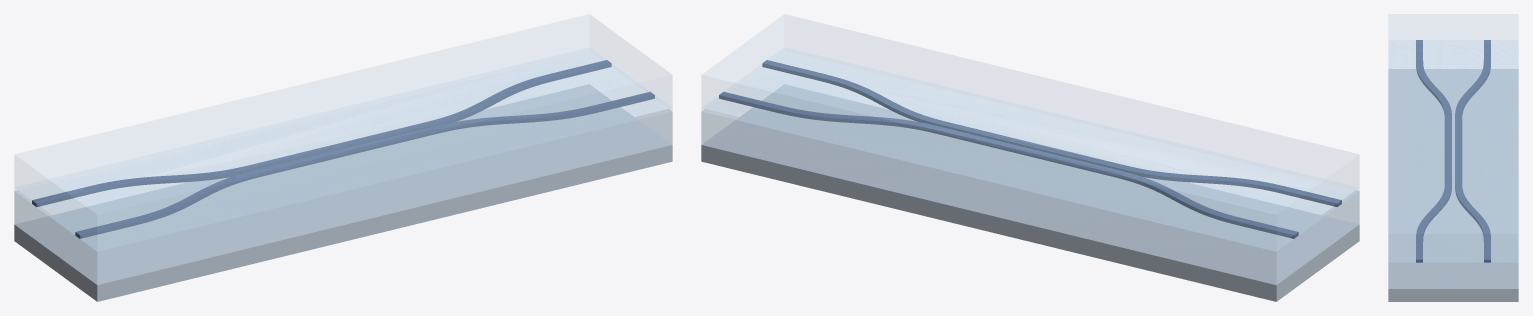
The model's file is stack-dc.glb.
3 renders of one model, left to right at view 1: azimuth 30°, elevation 25°; view 2: azimuth 150°, elevation 25°; view 3: azimuth 270°, elevation 25°, orthographic. The views are drawn at different scales.
Parts seen in each view (by area): view 1: cladd, sisub, box, siwg; view 2: cladd, sisub, box, siwg; view 3: cladd, sisub, box, siwg.
Part boxes in pixels (bbox=[...]): cladd: bbox=[14, 14, 672, 251]; sisub: bbox=[14, 84, 672, 301]; box: bbox=[14, 51, 672, 284]; siwg: bbox=[32, 60, 654, 238]; cladd: bbox=[701, 14, 1359, 250]; sisub: bbox=[701, 84, 1359, 301]; box: bbox=[701, 51, 1359, 284]; siwg: bbox=[719, 60, 1341, 238]; cladd: bbox=[1388, 14, 1518, 261]; sisub: bbox=[1388, 69, 1518, 301]; box: bbox=[1388, 43, 1518, 288]; siwg: bbox=[1416, 40, 1490, 262].
Size of the model in its own units: 36 by 5.2 by 9.
